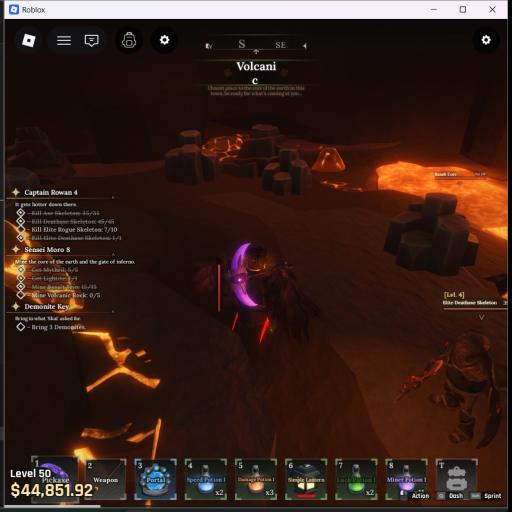player: (190, 244, 322, 341)
rock: (383, 194, 479, 276), (223, 125, 288, 177), (165, 130, 219, 184), (263, 149, 311, 195), (452, 232, 462, 251)
